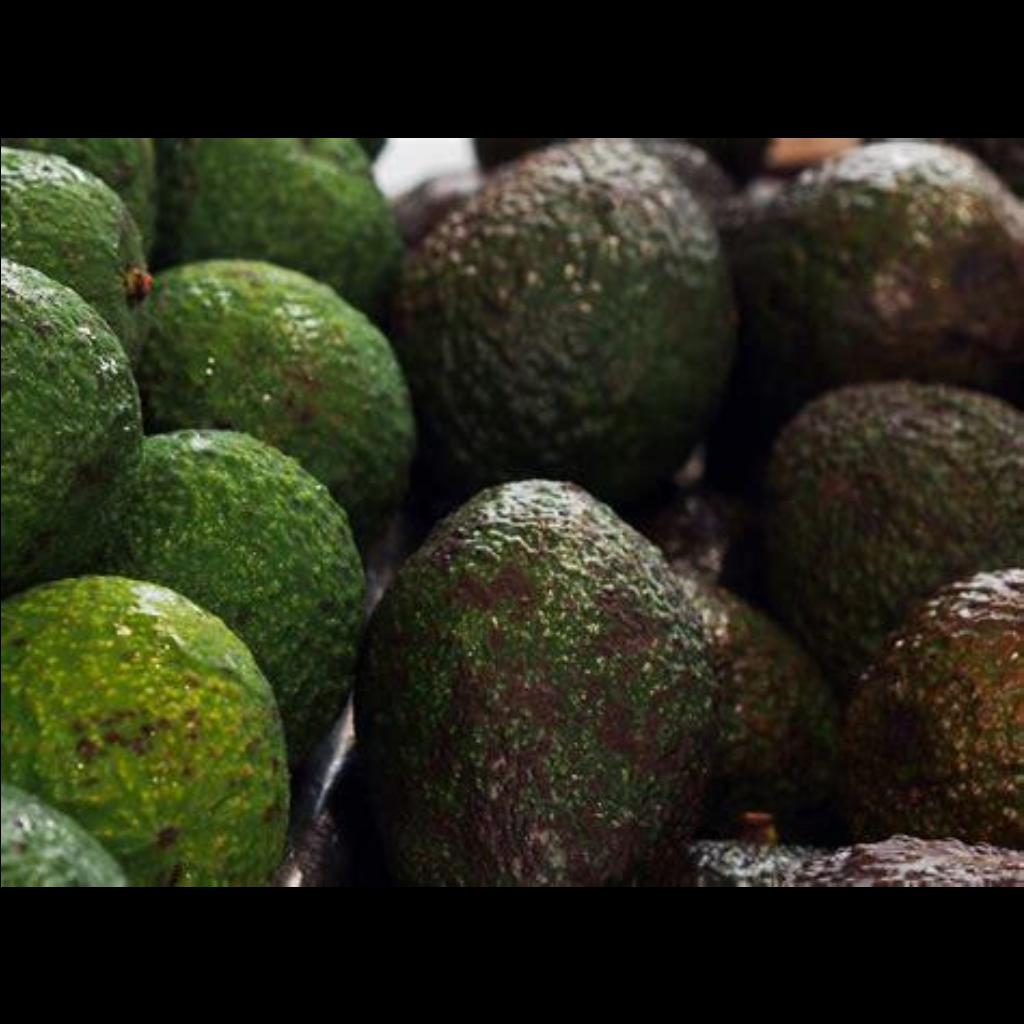cercospora_spot: (391, 490, 711, 844), (16, 549, 312, 841), (182, 252, 382, 404)
